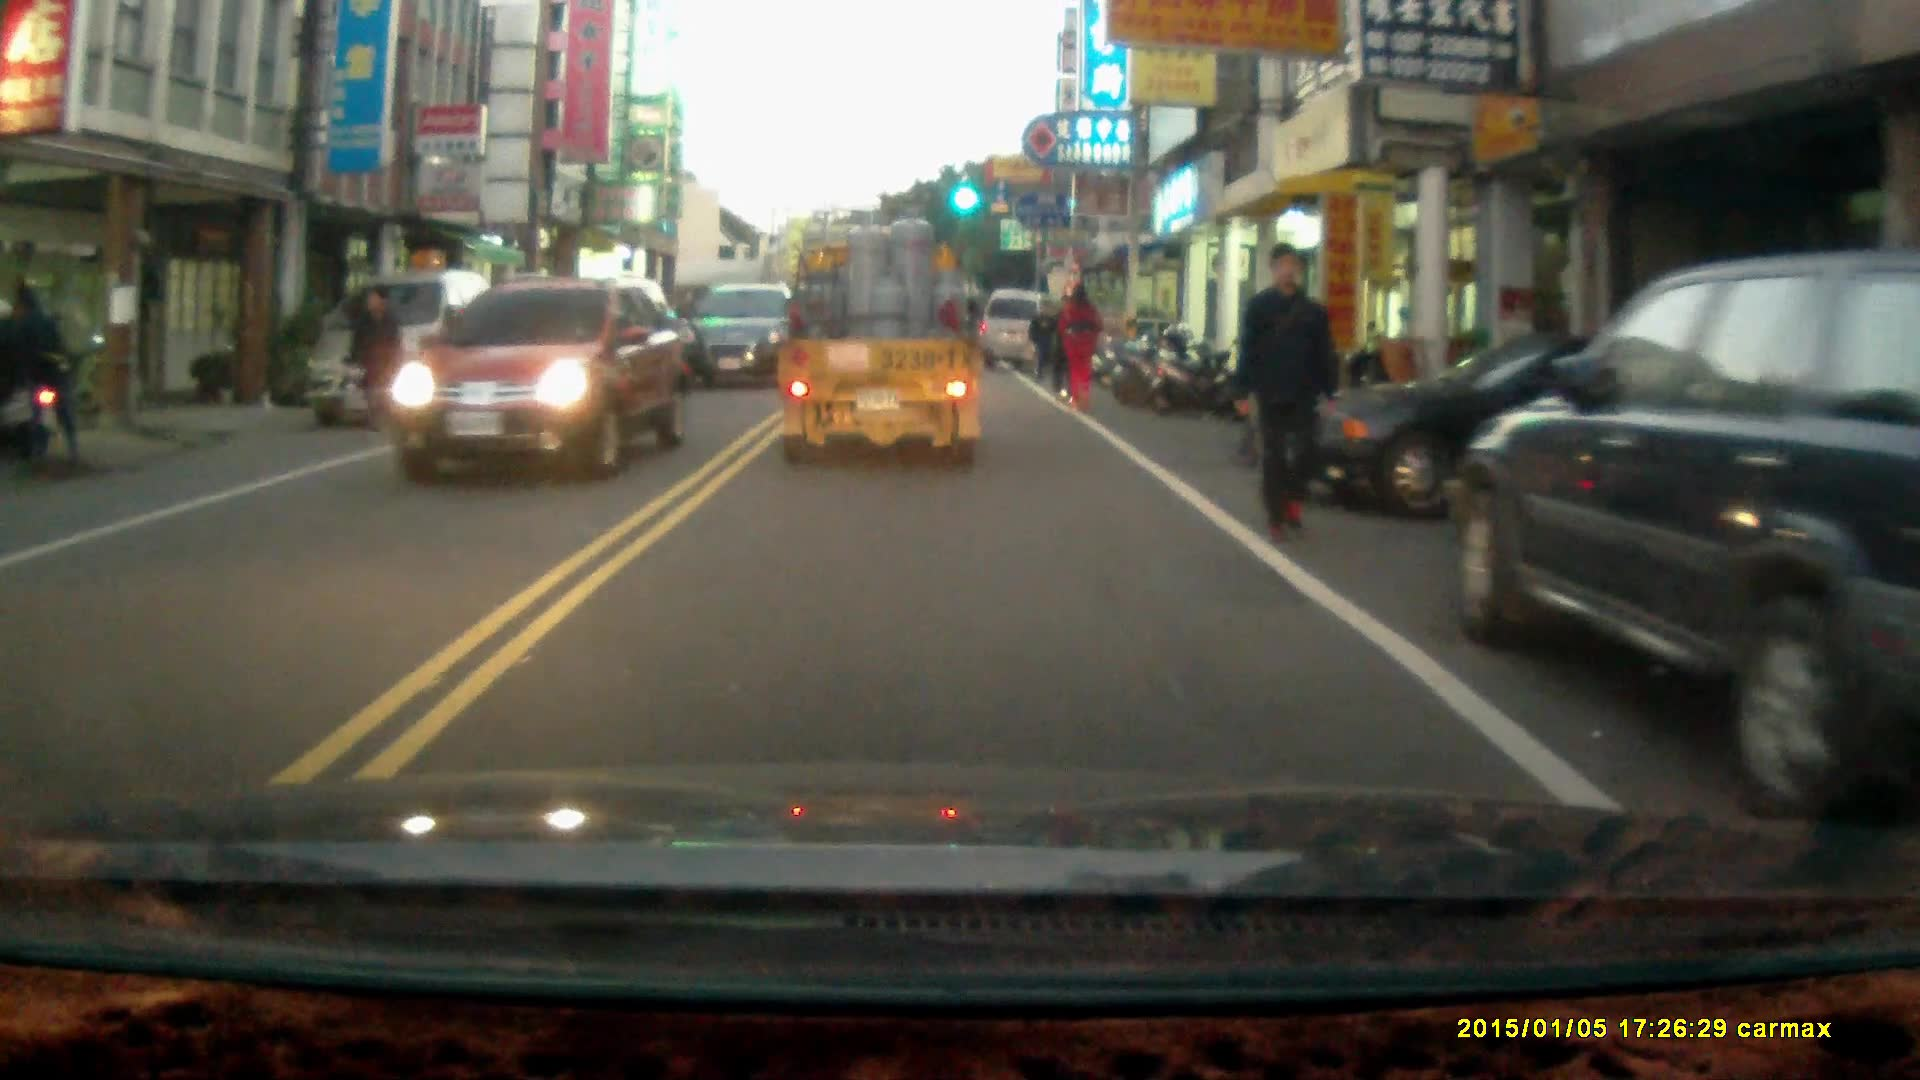pedestrian: (1237, 241, 1340, 546), (11, 278, 88, 469), (346, 281, 403, 435), (1058, 276, 1100, 408), (1029, 296, 1061, 382)
vehicle: (1442, 247, 1920, 831), (1274, 330, 1856, 516), (1311, 330, 1782, 513), (377, 280, 692, 483), (775, 208, 984, 478), (308, 275, 492, 428), (688, 280, 792, 393), (984, 289, 1063, 378)
